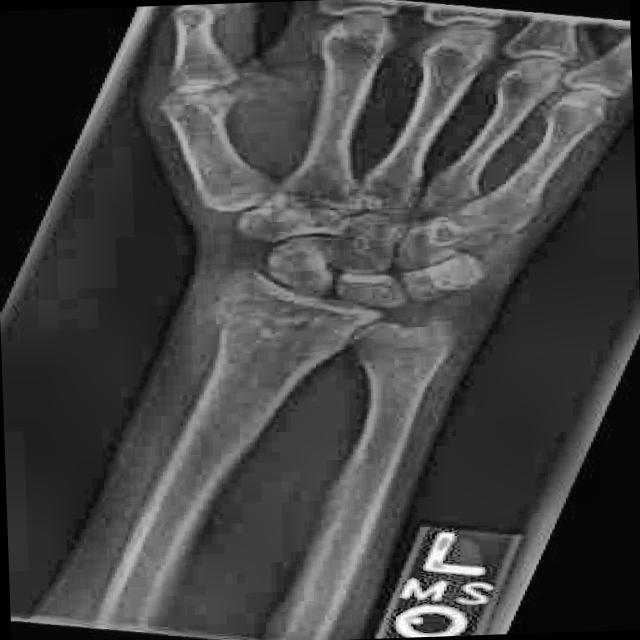wrist positive: (186, 284, 475, 354)
